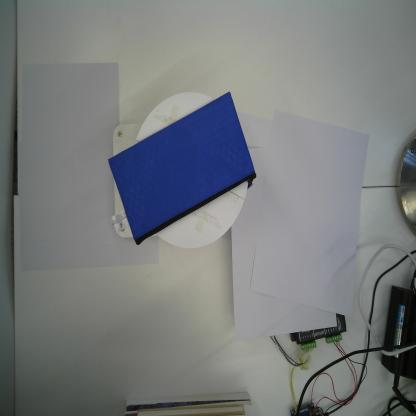Stationery: (106, 89, 257, 246)
